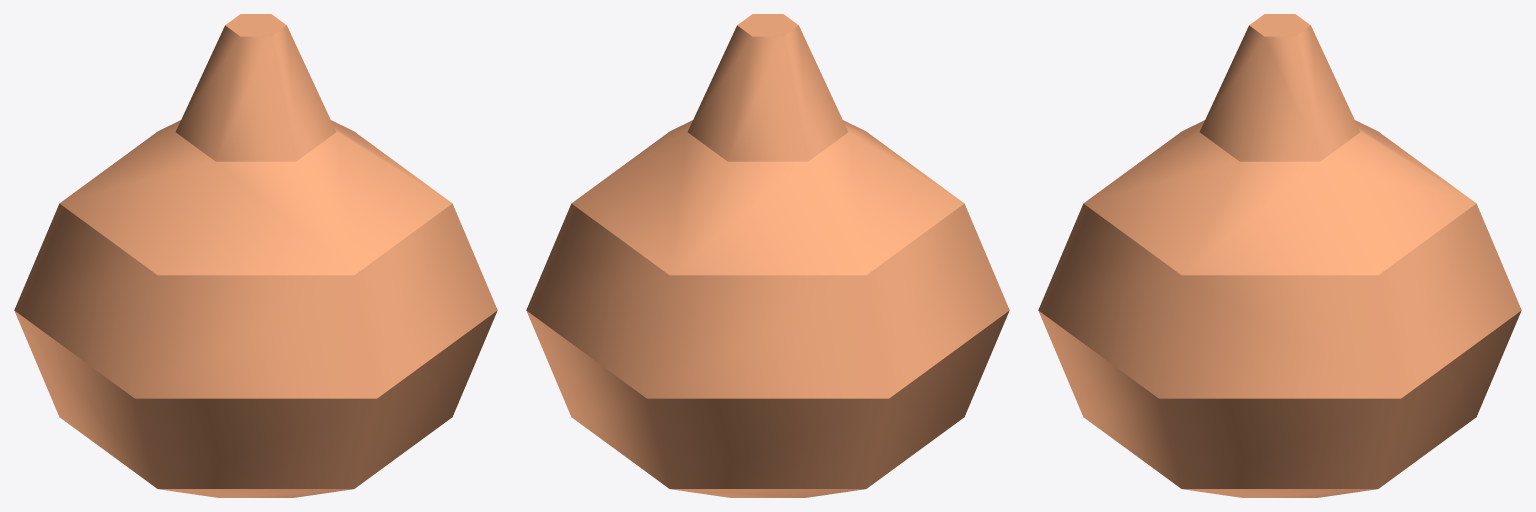
Rendered from onion.GLB.
3 renders of one model, left to right at view 1: azimuth 30°, elevation 25°; view 2: azimuth 150°, elevation 25°; view 3: azimuth 270°, elevation 25°, orthographic.
Parts seen in each view (by area): view 1: onion; view 2: onion; view 3: onion.
Boxes of the visible parts, left/top/right/bottom form: onion: left=14, top=14, right=497, bottom=497; onion: left=526, top=14, right=1009, bottom=497; onion: left=1038, top=14, right=1521, bottom=497.
Size of the model in its own units: 0.213 by 0.25 by 0.246.
